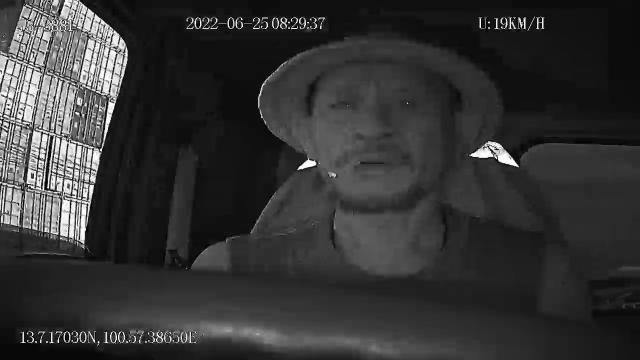SafeDriving: (391, 89, 423, 116)
Smoking: (328, 158, 362, 180)
